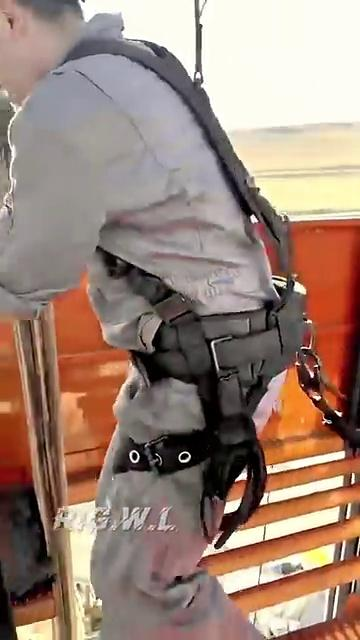worker: (0, 5, 250, 640)
